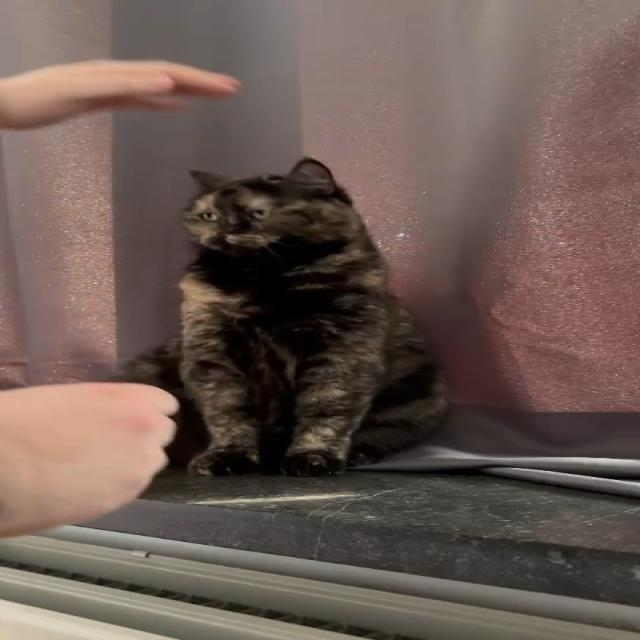authorized: (109, 156, 451, 477)
